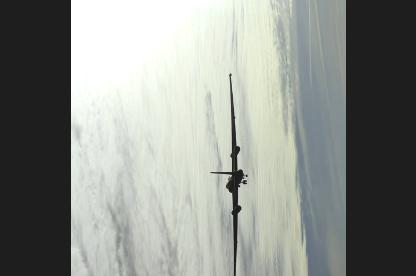Tu160: (209, 71, 248, 275)
